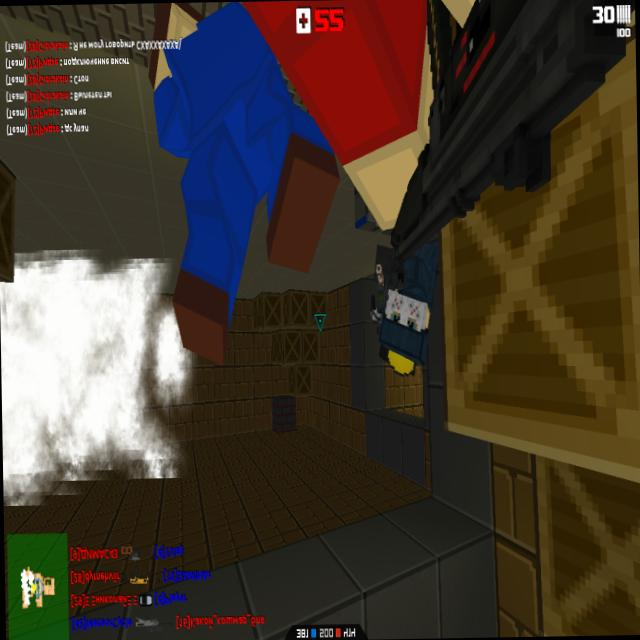enemy: (374, 232, 440, 368), (375, 287, 416, 378)
